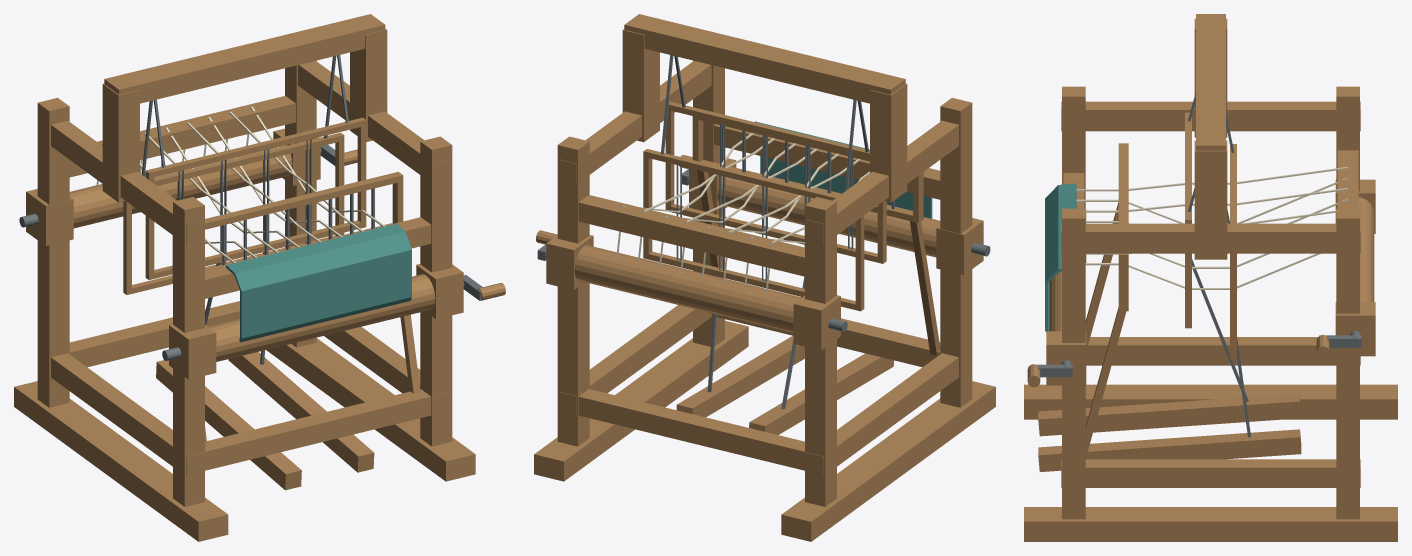
3 renders of one model, left to right at view 1: azimuth 30°, elevation 25°; view 2: azimuth 150°, elevation 25°; view 3: azimuth 270°, elevation 25°, orthographic.
Parts seen in each view (by area): view 1: WholeBentFrontWovenClothDisplay, LeftWholeGroundRunner, WholeCastleTopCrossbeam, LeftFrontWholePost, LeftRearWholePost, RightFrontWholePost, FrontLowWholeCrossbeam, RightWholeGroundRunner, Shaft0WholeOpenFrame, LeftWholeLowerRail, RearBackWholeCrossbeam, FrontClothWholeWindingBeam (+18 smaller); view 2: LeftWholeGroundRunner, WholeCastleTopCrossbeam, RearWarpWholeWindingBeam, LeftRearWholePost, LeftFrontWholePost, RightRearWholePost, RightWholeGroundRunner, RearLowWholeCrossbeam, RearBackWholeCrossbeam, Shaft1WholeOpenFrame, LeftWholeLowerRail, Shaft0WholeOpenFrame (+19 smaller); view 3: RightWholeGroundRunner, RightWholeLowerRail, LeftWholeGroundRunner, RightWholeUpperRail, LeftWholeUpperRail, RightFrontWholePost, RightRearWholePost, LeftWholeLowerRail, WholeFixedTreadle0, WholeFixedTreadle1, WholeCastleTopCrossbeam, RightWholeCastlePost (+20 smaller).
Part boxes in pixels (x1,y1,x2,y2): WholeBentFrontWovenClothDisplay: [226, 223, 411, 342]; LeftWholeGroundRunner: [14, 381, 228, 541]; WholeCastleTopCrossbeam: [104, 14, 385, 103]; LeftFrontWholePost: [173, 197, 204, 506]; LeftRearWholePost: [37, 97, 69, 407]; RightFrontWholePost: [420, 136, 452, 446]; FrontLowWholeCrossbeam: [205, 389, 431, 470]; RightWholeGroundRunner: [266, 338, 475, 481]; Shaft0WholeOpenFrame: [145, 117, 366, 279]; LeftWholeLowerRail: [51, 353, 203, 476]; RearBackWholeCrossbeam: [69, 96, 295, 177]; FrontClothWholeWindingBeam: [208, 274, 435, 361]; LeftWholeGroundRunner: [781, 381, 995, 541]; WholeCastleTopCrossbeam: [624, 14, 905, 103]; RearWarpWholeWindingBeam: [574, 245, 801, 332]; LeftRearWholePost: [805, 197, 836, 506]; LeftFrontWholePost: [940, 98, 972, 407]; RightRearWholePost: [557, 136, 589, 446]; RightWholeGroundRunner: [534, 320, 748, 481]; RearLowWholeCrossbeam: [578, 389, 804, 470]; RearBackWholeCrossbeam: [578, 195, 804, 276]; Shaft1WholeOpenFrame: [643, 149, 864, 311]; LeftWholeLowerRail: [806, 353, 958, 476]; Shaft0WholeOpenFrame: [665, 101, 886, 263]; RightWholeGroundRunner: [1024, 507, 1397, 541]; RightWholeLowerRail: [1061, 459, 1360, 487]; LeftWholeGroundRunner: [1024, 384, 1397, 419]; RightWholeUpperRail: [1061, 223, 1360, 253]; LeftWholeUpperRail: [1061, 101, 1360, 131]; RightFrontWholePost: [1062, 208, 1085, 519]; RightRearWholePost: [1336, 208, 1359, 519]; LeftWholeLowerRail: [1086, 337, 1360, 365]; WholeFixedTreadle0: [1038, 393, 1301, 436]; WholeFixedTreadle1: [1038, 429, 1301, 471]; WholeCastleTopCrossbeam: [1196, 14, 1225, 150]; RightWholeCastlePost: [1194, 140, 1227, 259].
Bounding box in the file's own units: 1.51 × 1.74 × 1.5.
